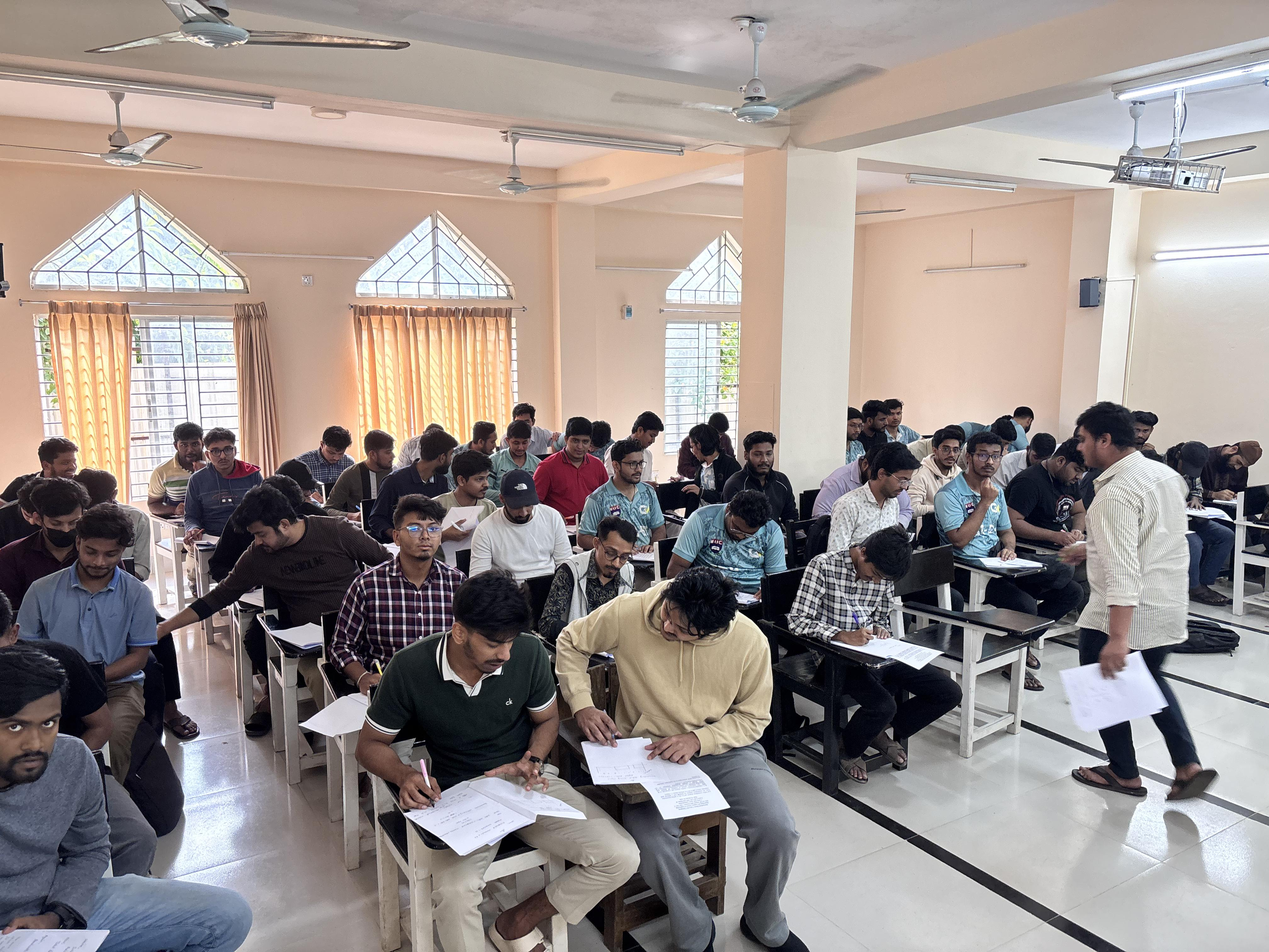copying: (346, 569, 571, 902), (556, 566, 776, 881), (677, 419, 726, 508), (408, 428, 458, 494), (356, 428, 402, 490), (461, 419, 499, 459)
exchanging_sheets: (190, 483, 363, 632)
no_cheating: (0, 644, 240, 952), (1066, 404, 1228, 779), (797, 521, 949, 769), (31, 510, 160, 668), (836, 439, 933, 560), (675, 476, 782, 585), (479, 468, 561, 590), (946, 434, 1019, 569), (562, 516, 645, 612), (442, 445, 519, 531), (22, 480, 83, 577), (195, 428, 256, 518), (157, 420, 216, 505), (588, 438, 654, 511), (734, 428, 790, 500), (552, 417, 604, 493), (307, 422, 358, 498), (918, 425, 964, 495), (1050, 430, 1089, 509), (1220, 434, 1267, 494), (623, 411, 673, 462), (497, 420, 539, 473), (861, 397, 897, 445), (837, 406, 863, 439)
side_talking: (37, 429, 83, 481)
